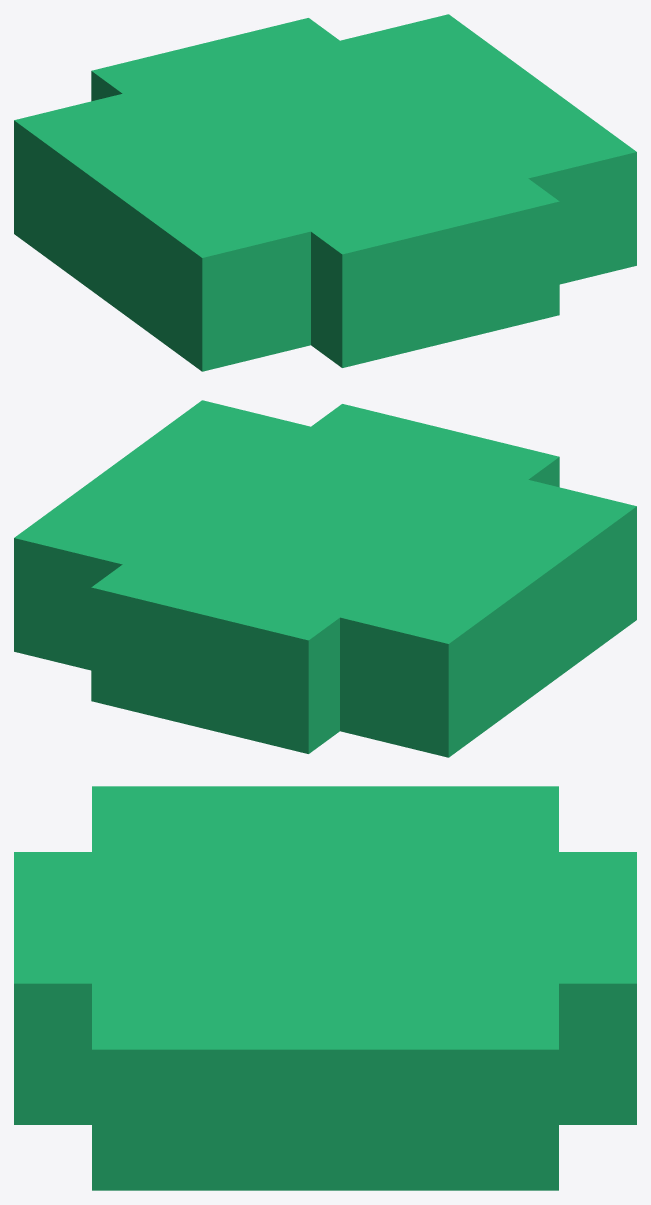
Rendered from water-flower-02.glb.
3 views of the same model, one above another, from view 1: azimuth 30°, elevation 25°; view 2: azimuth 150°, elevation 25°; view 3: azimuth 270°, elevation 25° (orthographic). The views are drawn at different scales.
Visible parts, largest first — view 1: generated(Clone); view 2: generated(Clone); view 3: generated(Clone).
Boxes of the visible parts, bbox=[...] form: generated(Clone): bbox=[14, 14, 636, 371]; generated(Clone): bbox=[14, 400, 636, 757]; generated(Clone): bbox=[14, 786, 636, 1190].
Size of the model in its own units: 4 by 1 by 4.
1 material, 1 textured.
